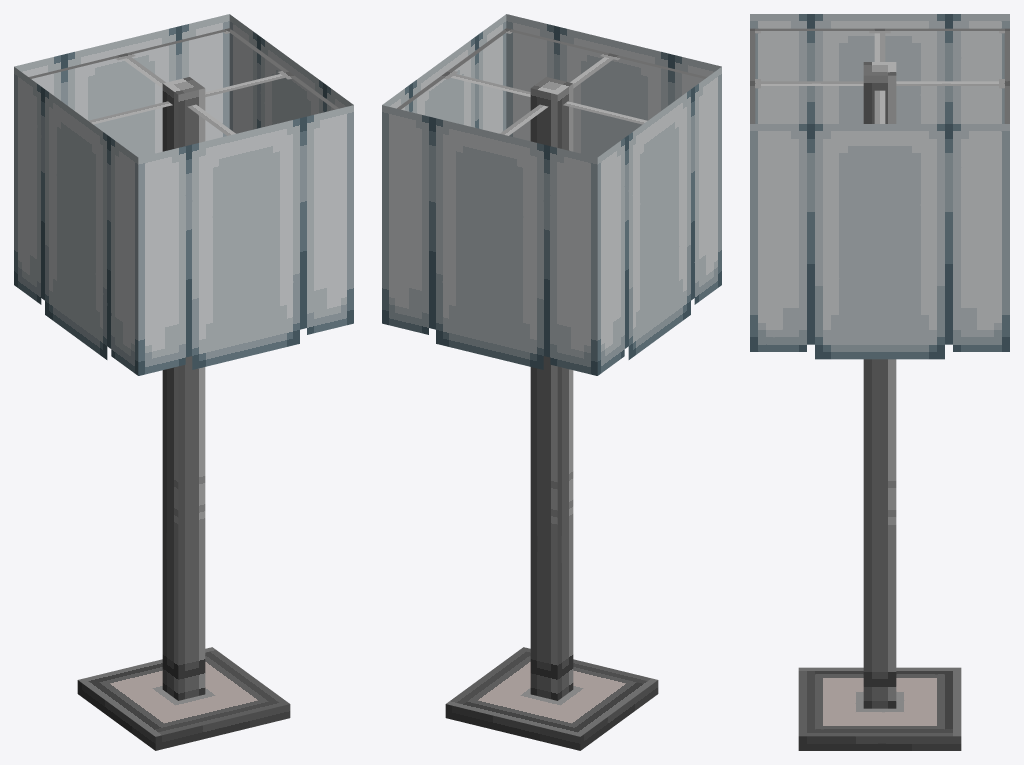
The model's file is living-room_lamp.glb.
The picture shows the model from 3 angles, left to right: view 1: azimuth 30°, elevation 25°; view 2: azimuth 150°, elevation 25°; view 3: azimuth 270°, elevation 25°; orthographic projection. The views are drawn at different scales.
Visible parts, largest first — view 1: cuboid_2, cuboid_0, plane_1; view 2: cuboid_2, cuboid_0, plane_1; view 3: cuboid_2, cuboid_0, plane_1.
Boxes of the visible parts, box(x1,y1,x2,y2) form: cuboid_2: box(14, 14, 353, 375); cuboid_0: box(77, 77, 290, 750); plane_1: box(28, 28, 338, 135); cuboid_2: box(382, 14, 721, 375); cuboid_0: box(445, 77, 658, 750); plane_1: box(397, 28, 707, 135); cuboid_2: box(750, 14, 1009, 359); cuboid_0: box(798, 62, 961, 750); plane_1: box(750, 28, 1009, 123).
Size of the model in its own units: 1 by 2.75 by 1.
1 material, 1 textured.
